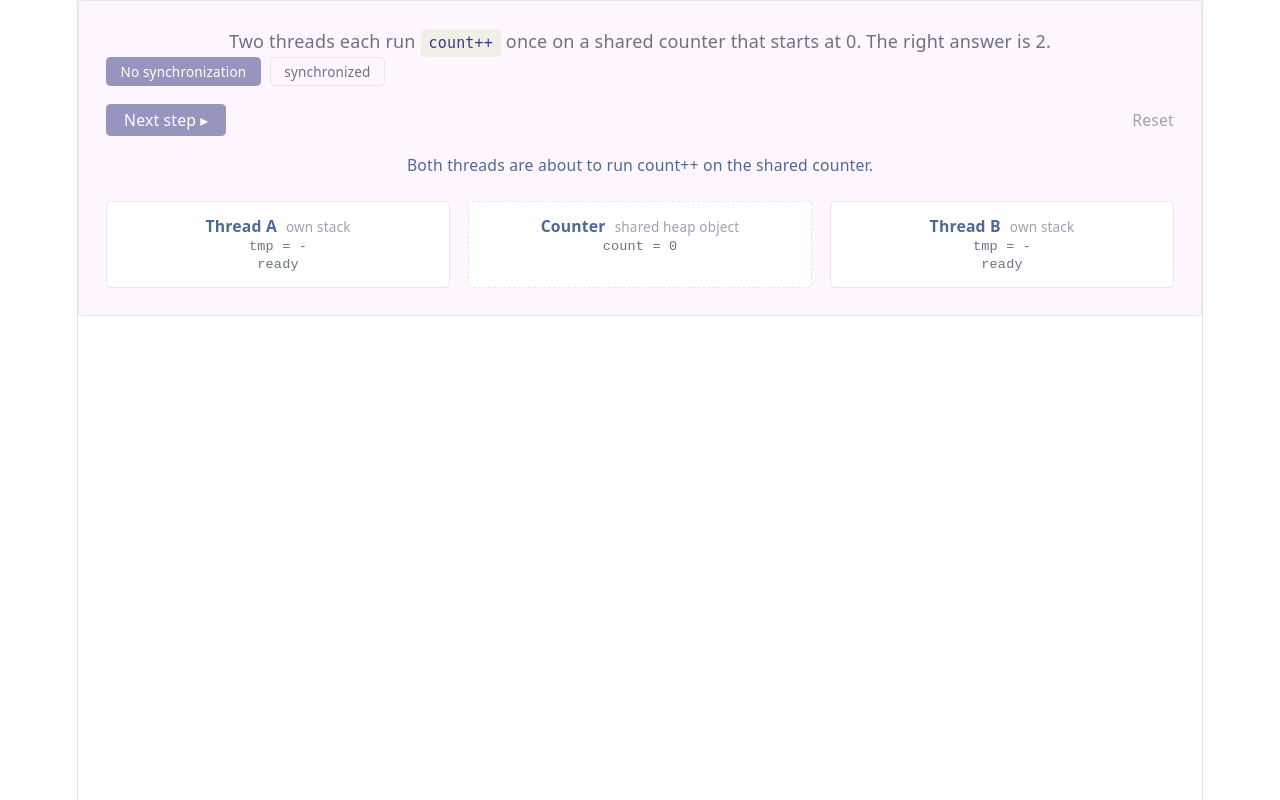
Scenario: RaceConditionDemo › restarts from the first step when switching mode
Click the button "Next step ▸" at (166, 120), box [106,104,226,136]
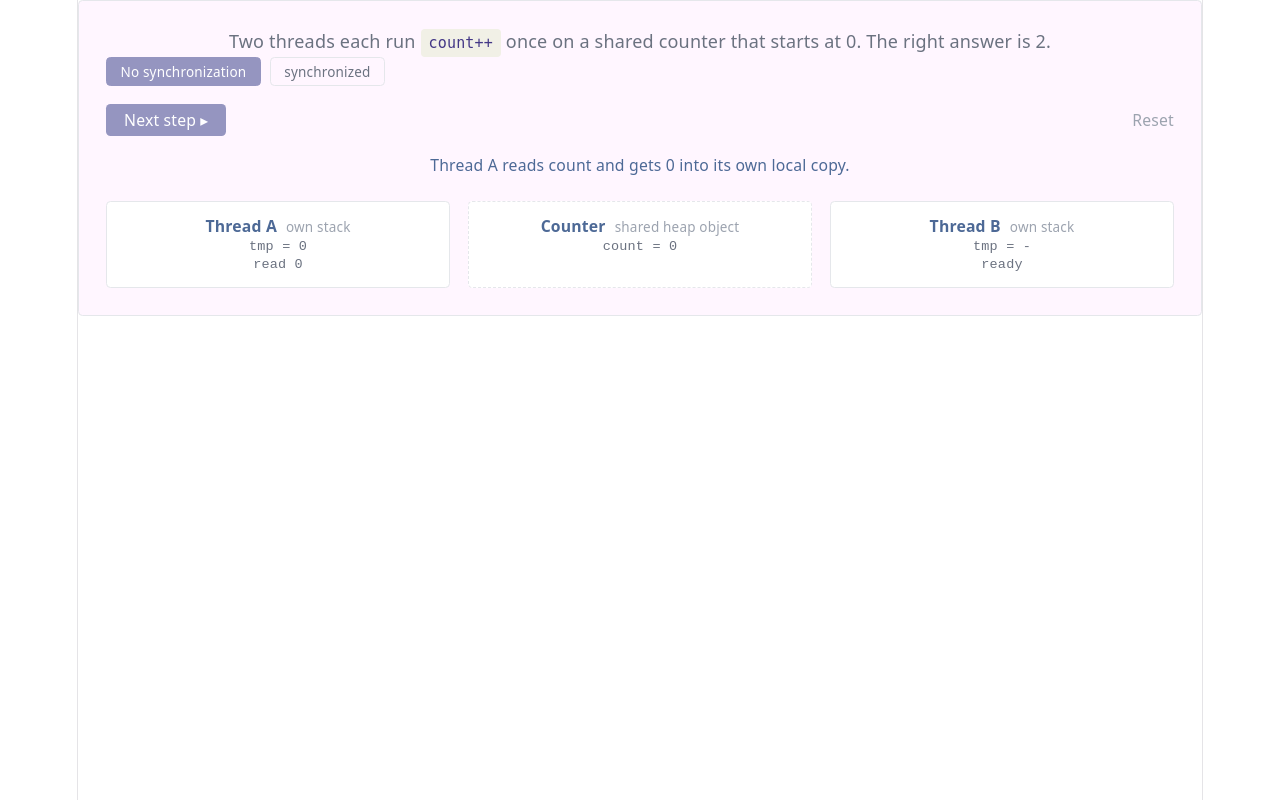
Click the button "synchronized" at (327, 72), box [270,57,385,86]
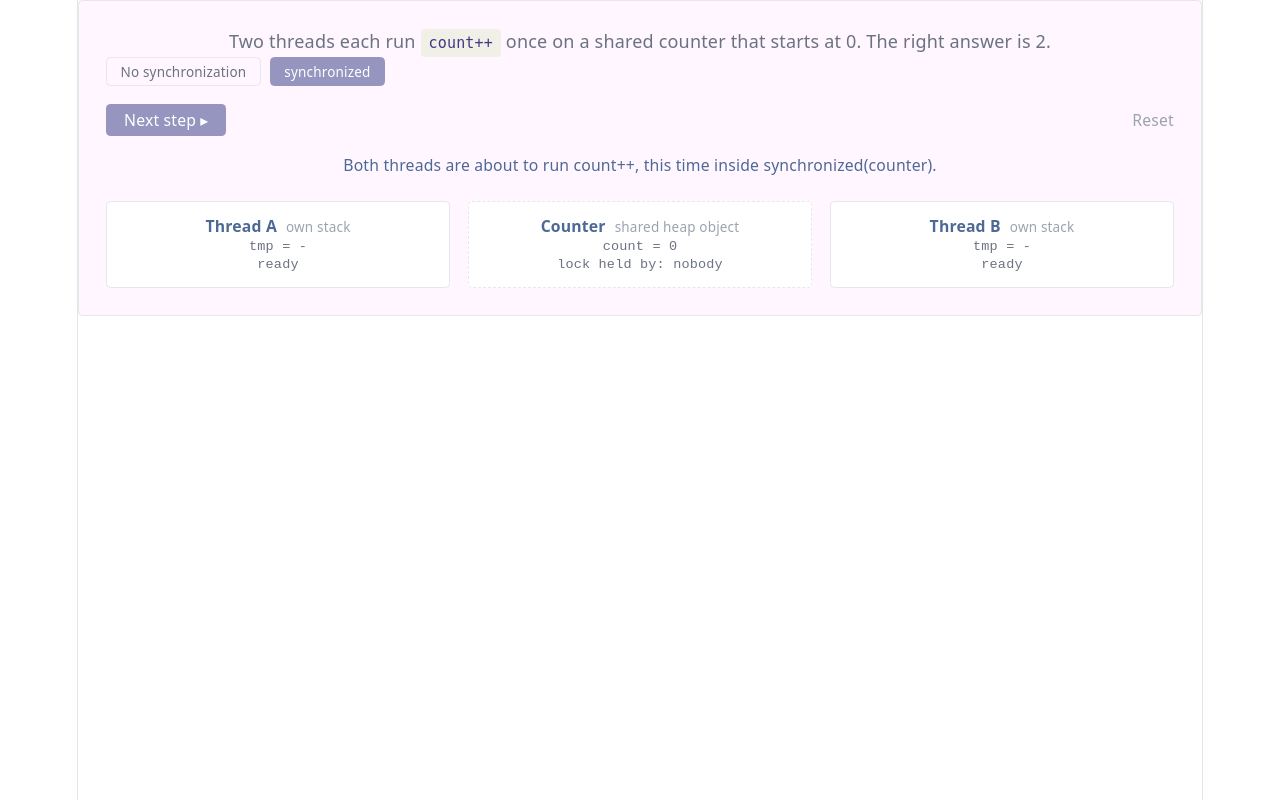
Result: the text "inside synchronized(counter)" is shown at [343,154,937,176]
